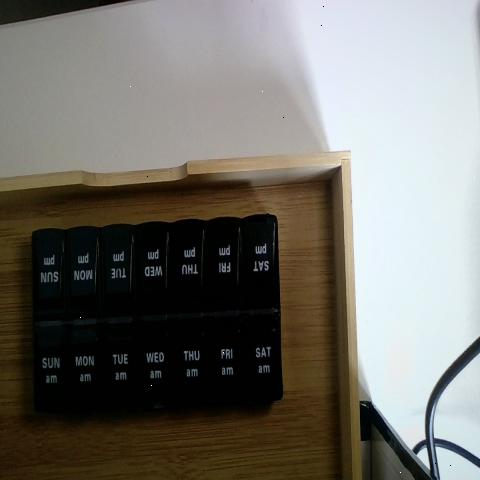FRI-am: (211, 326, 246, 414)
FRI-pm: (207, 217, 242, 302)
MON-am: (73, 328, 107, 420)
MON-pm: (70, 224, 107, 307)
SAT-am: (241, 317, 282, 405)
SAT-pm: (241, 219, 277, 310)
SUN-am: (36, 323, 70, 421)
SUN-pm: (36, 229, 71, 313)
THU-am: (178, 326, 211, 419), (109, 328, 140, 417)
THU-pm: (172, 220, 208, 316)
TUE-pm: (103, 231, 138, 314)
WED-am: (139, 326, 176, 413)
WED-pm: (136, 220, 172, 311)
